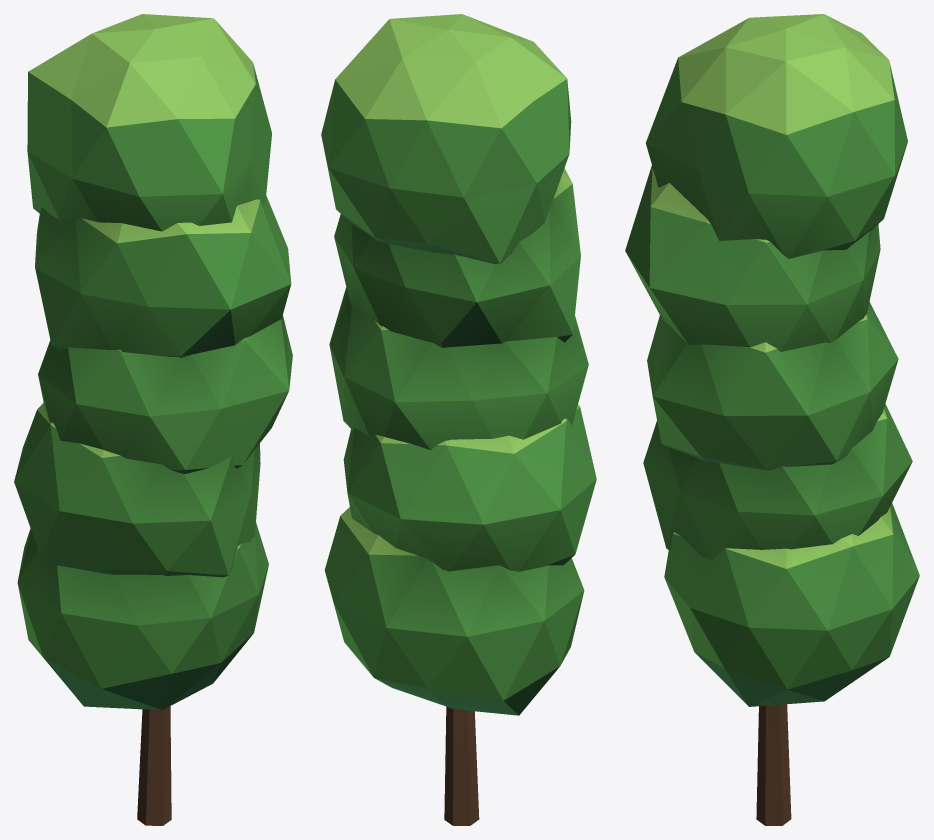
Rendered from tree_poplar_a.glb.
3 views of the same model, side by side, from view 1: azimuth 30°, elevation 25°; view 2: azimuth 150°, elevation 25°; view 3: azimuth 270°, elevation 25° (orthographic).
Visible parts, largest first — view 1: Canopy, Trunk; view 2: Canopy, Trunk; view 3: Canopy, Trunk.
Boxes of the visible parts, x1=… form: Canopy: x1=14, y1=14, x2=292, y2=710; Trunk: x1=137, y1=706, x2=171, y2=825; Canopy: x1=321, y1=14, x2=596, y2=715; Trunk: x1=444, y1=706, x2=479, y2=825; Canopy: x1=625, y1=14, x2=919, y2=706; Trunk: x1=756, y1=704, x2=791, y2=825.
Size of the model in its own units: 3.75 by 12.04 by 4.05.
Materials: 1 (1 with a texture image).
